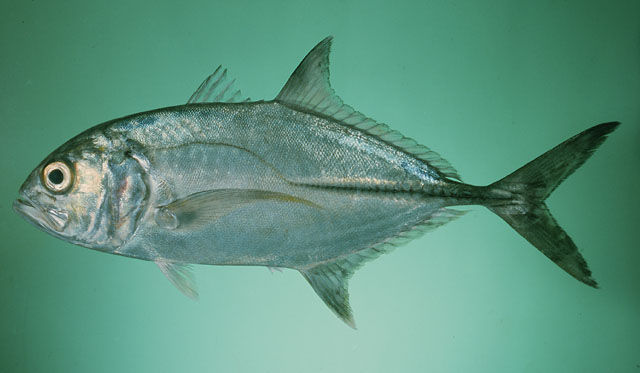fish: (15, 34, 623, 331)
